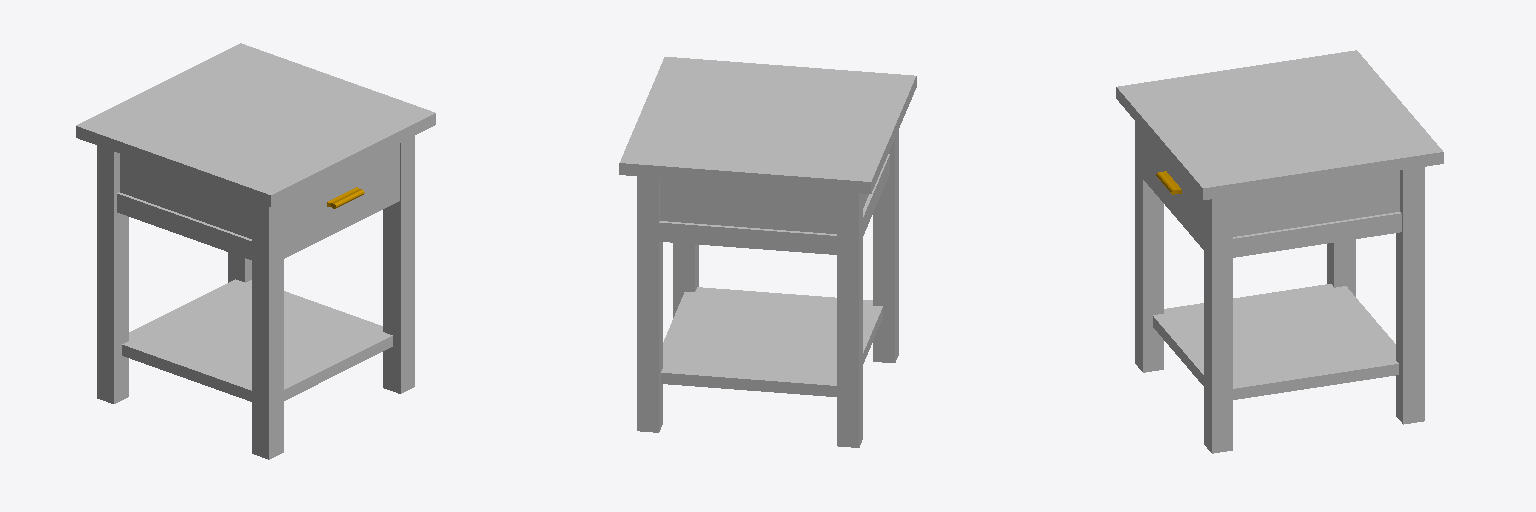
File: table.obj
3 views of the same model, side by side, from view 1: azimuth 30°, elevation 25°; view 2: azimuth 150°, elevation 25°; view 3: azimuth 270°, elevation 25° (orthographic).
Visible parts, largest first — view 1: Table; view 2: Table; view 3: Table.
Boxes of the visible parts, x1=… form: Table: x1=76, y1=43, x2=435, y2=459; Table: x1=619, y1=57, x2=916, y2=447; Table: x1=1116, y1=50, x2=1443, y2=453.
Bounding box in the file's own units: 57.78 × 53.23 × 57.78.